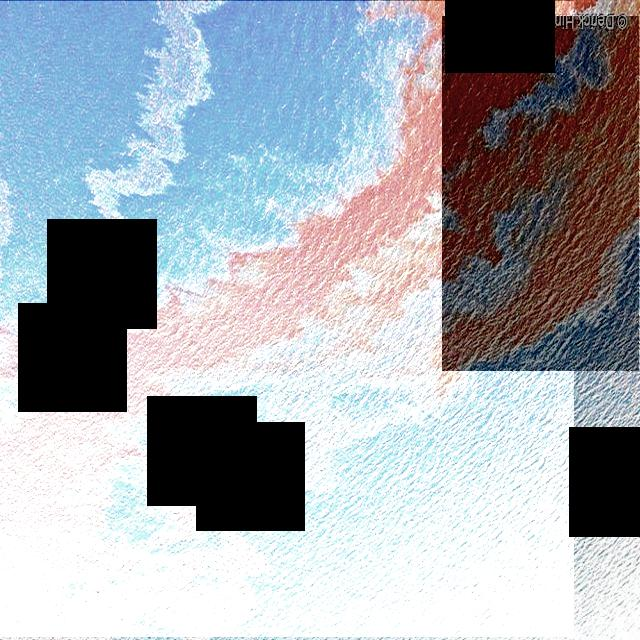oil spill: (0, 2, 574, 637), (443, 17, 639, 371)
